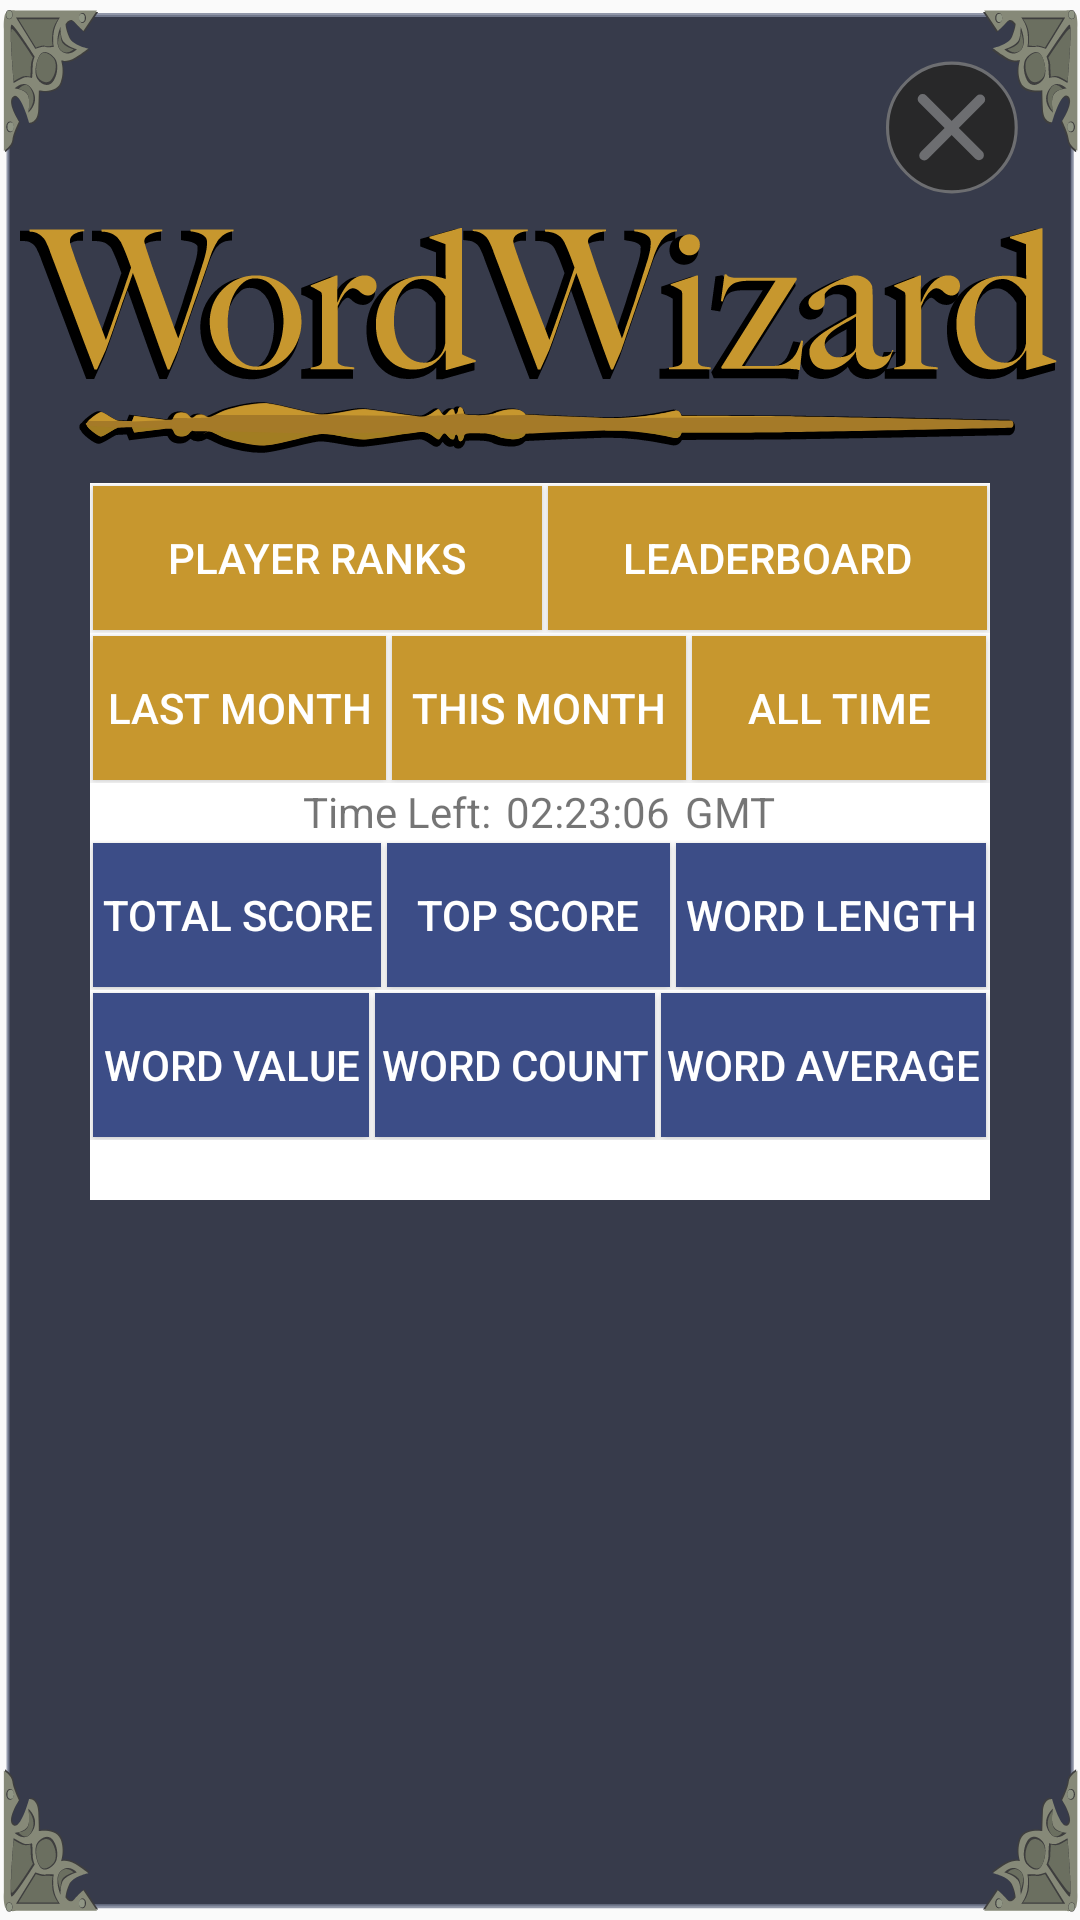

Icon click points for this 1080×1920 phone screenshot, format (x,y):
work xout disc: (952,127)
